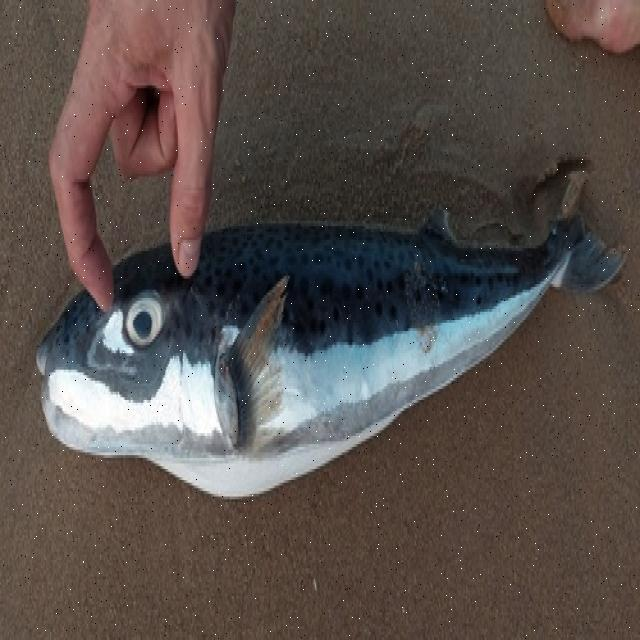Balik: (38, 213, 622, 496)
